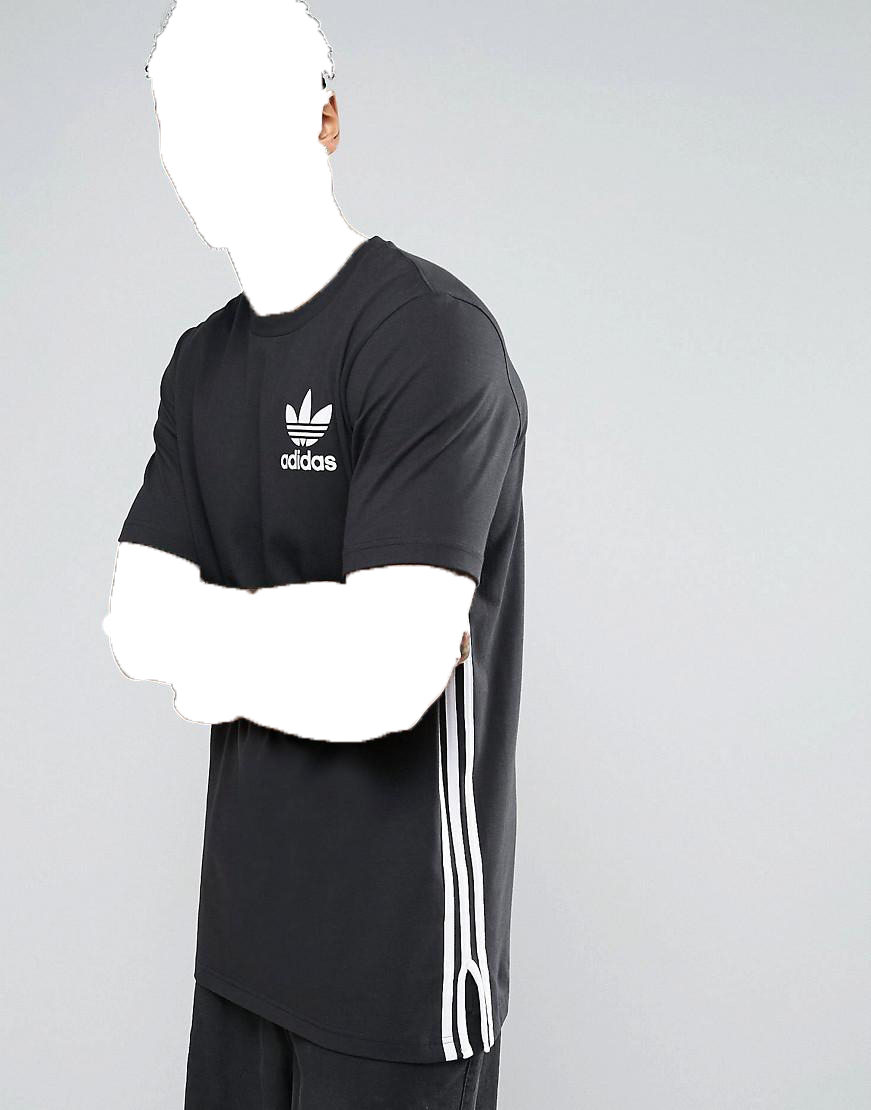teeshirt: (115, 235, 546, 1066)
